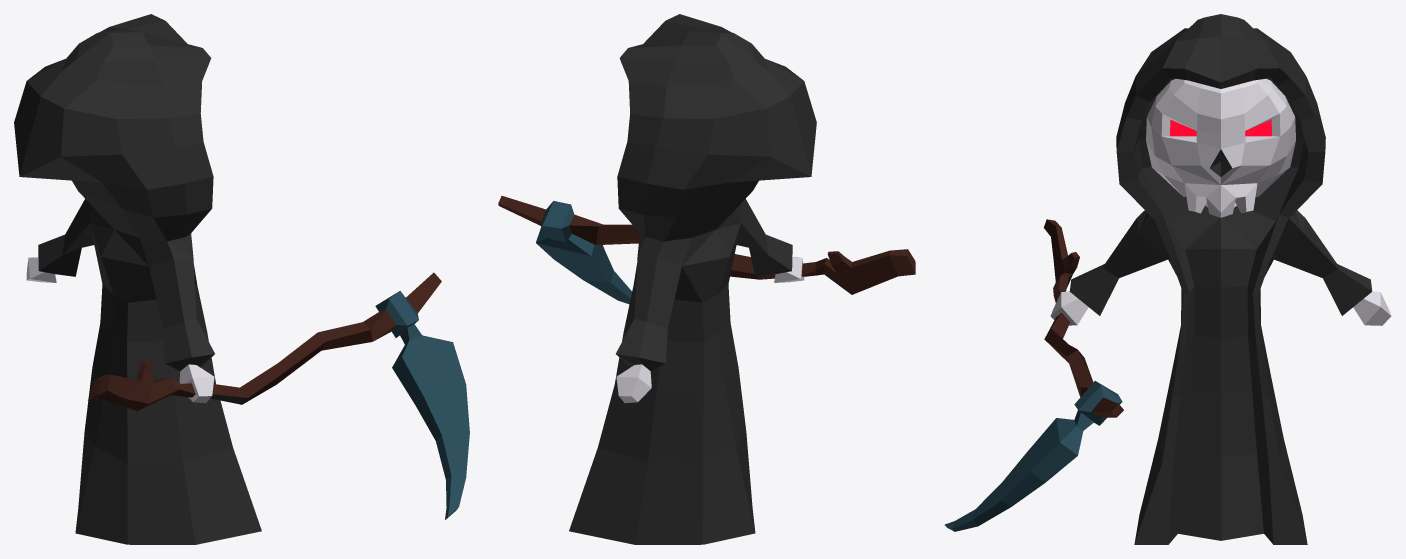
Rendered from Grim_Reaper_Scythe.fbx.
3 renders of one model, left to right at view 1: azimuth 30°, elevation 25°; view 2: azimuth 150°, elevation 25°; view 3: azimuth 270°, elevation 25°, orthographic. The views are drawn at different scales.
Visible parts, largest first — view 1: Grim_Reaper_Scythe; view 2: Grim_Reaper_Scythe; view 3: Grim_Reaper_Scythe.
Part boxes in pixels (bbox=[...]): Grim_Reaper_Scythe: bbox=[14, 14, 469, 544]; Grim_Reaper_Scythe: bbox=[498, 14, 915, 544]; Grim_Reaper_Scythe: bbox=[944, 14, 1391, 544].
Bounding box in the file's own units: 167 × 205 × 173.
